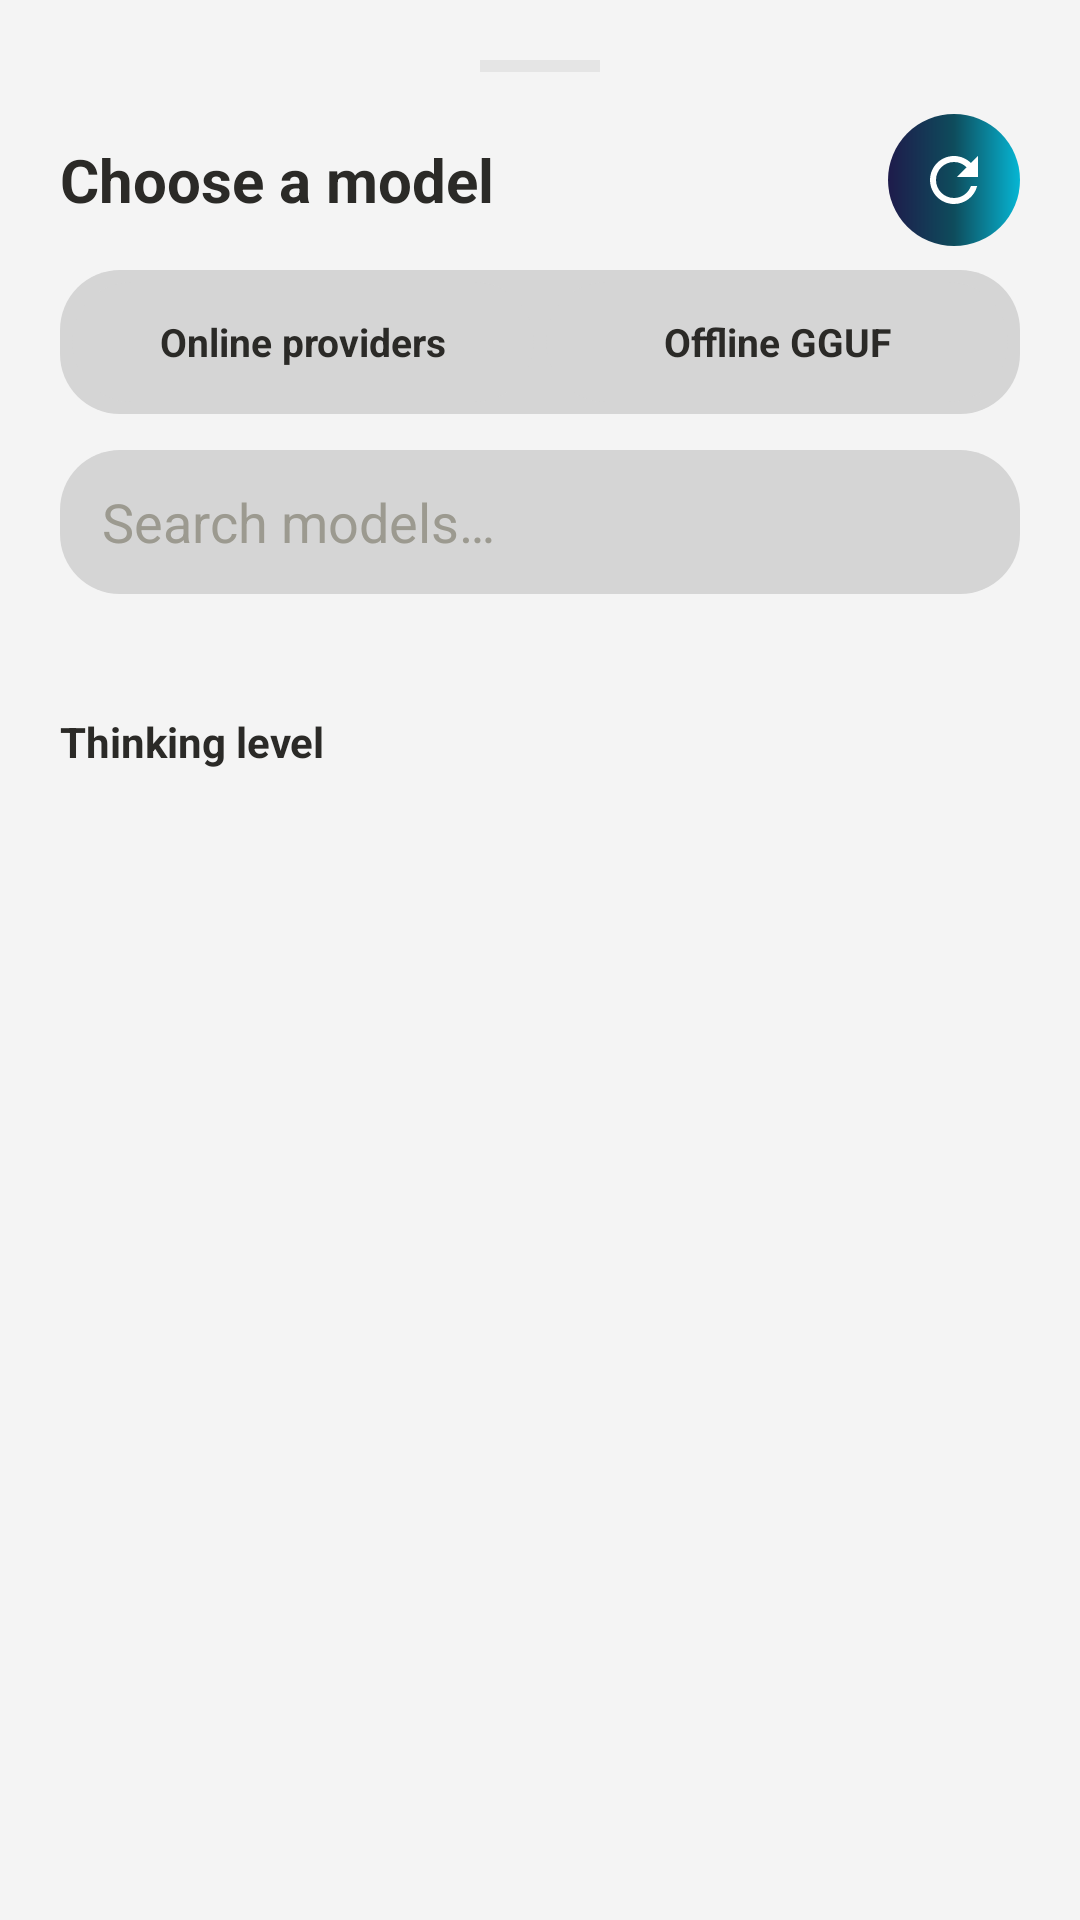

Where icons sit on this 1080px x 1920px app screen, as (x1, y1, x2, y2):
Refresh models: (888, 114, 1020, 246)
